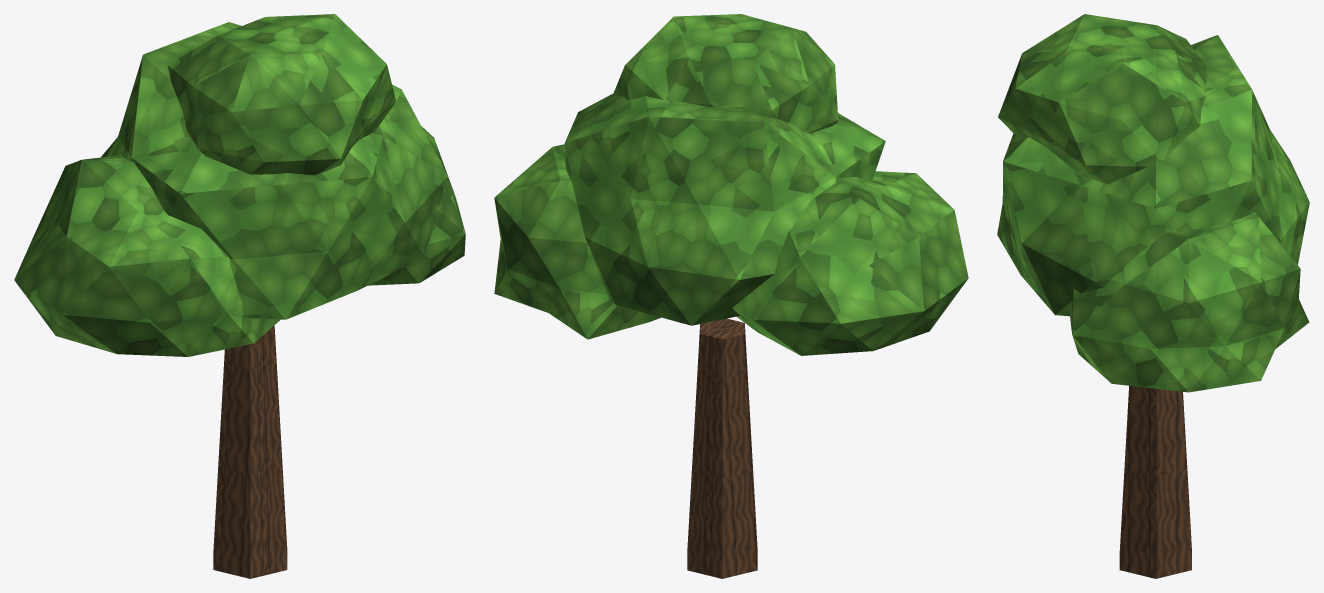
The model's file is Tree_Oak.glb.
3 renders of one model, left to right at view 1: azimuth 30°, elevation 25°; view 2: azimuth 150°, elevation 25°; view 3: azimuth 270°, elevation 25°, orthographic. The views are drawn at different scales.
Visible parts, largest first — view 1: Tree_Oak; view 2: Tree_Oak; view 3: Tree_Oak.
Boxes of the visible parts, bbox=[...] form: Tree_Oak: bbox=[14, 14, 465, 578]; Tree_Oak: bbox=[494, 14, 968, 578]; Tree_Oak: bbox=[997, 14, 1309, 578].
Bounding box in the file's own units: 4.45 × 5.32 × 2.84.
Materials: 2 (2 with a texture image).
